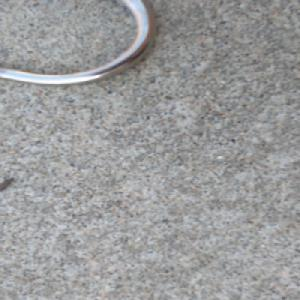ClampPart: (0, 0, 161, 88)
